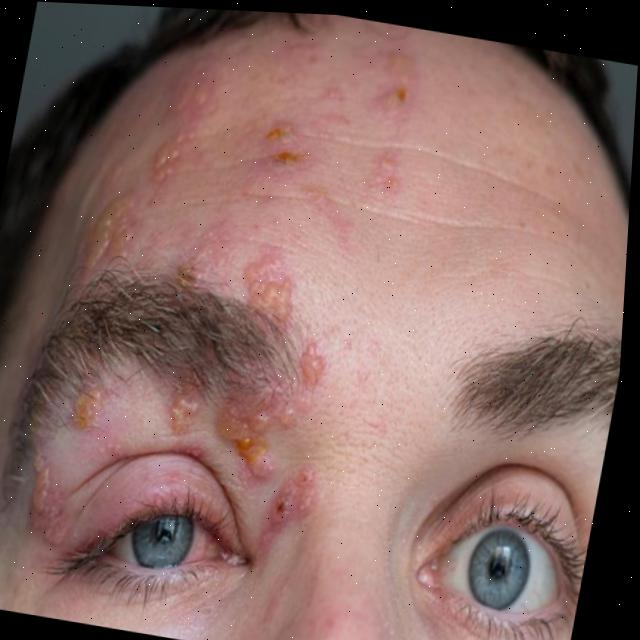Shingles: (142, 367, 340, 524), (76, 78, 206, 285), (9, 382, 115, 541), (365, 50, 413, 196), (245, 249, 305, 318), (260, 119, 307, 183)
